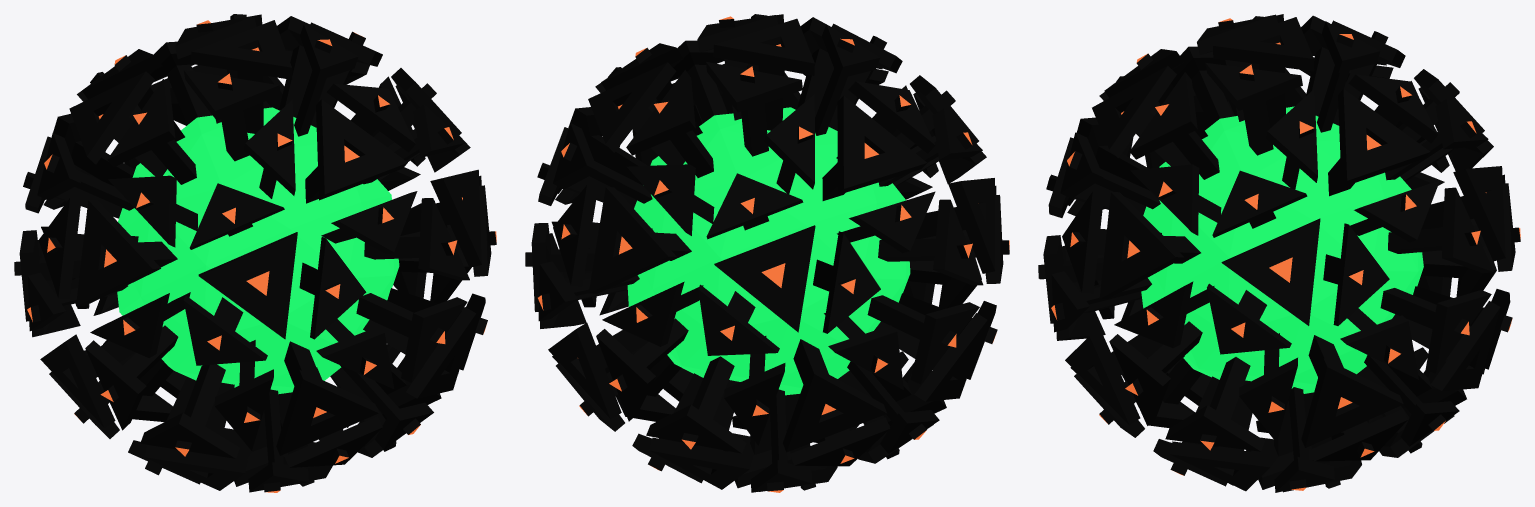
File: engine_core.glb
3 views of the same model, side by side, from view 1: azimuth 30°, elevation 25°; view 2: azimuth 150°, elevation 25°; view 3: azimuth 270°, elevation 25° (orthographic).
Visible parts, largest first — view 1: Icosphere, Icosphere_1, Icosphere_2; view 2: Icosphere, Icosphere_1, Icosphere_2; view 3: Icosphere, Icosphere_1, Icosphere_2.
Boxes of the visible parts, box(x1,y1,x2,y2) form: Icosphere: box(14, 14, 496, 492); Icosphere_1: box(117, 107, 399, 394); Icosphere_2: box(27, 20, 496, 492); Icosphere: box(525, 14, 1009, 492); Icosphere_1: box(627, 107, 910, 395); Icosphere_2: box(538, 16, 1009, 492); Icosphere: box(1038, 14, 1520, 492); Icosphere_1: box(1141, 106, 1423, 393); Icosphere_2: box(1051, 18, 1520, 490).
Size of the model in its own units: 0.1351 by 0.1324 by 0.1363.
